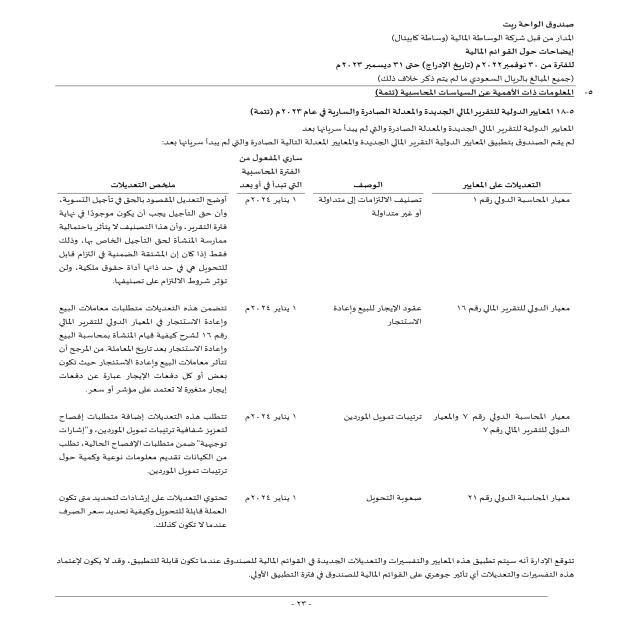notes: (448, 44, 577, 57)
table: (14, 157, 582, 542)
